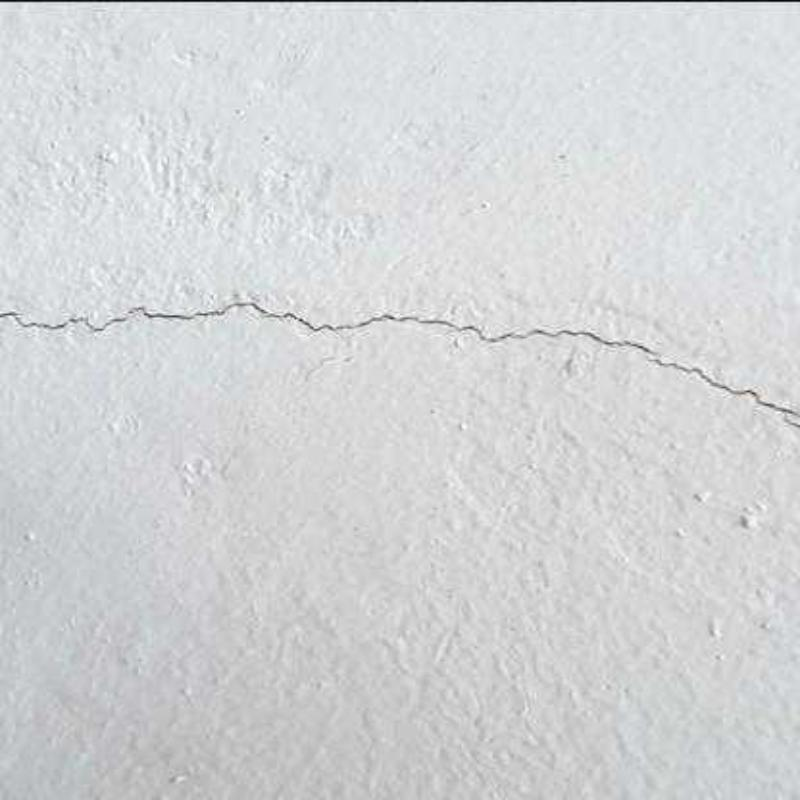crack: (0, 303, 658, 354), (646, 358, 797, 414), (784, 419, 800, 430)
